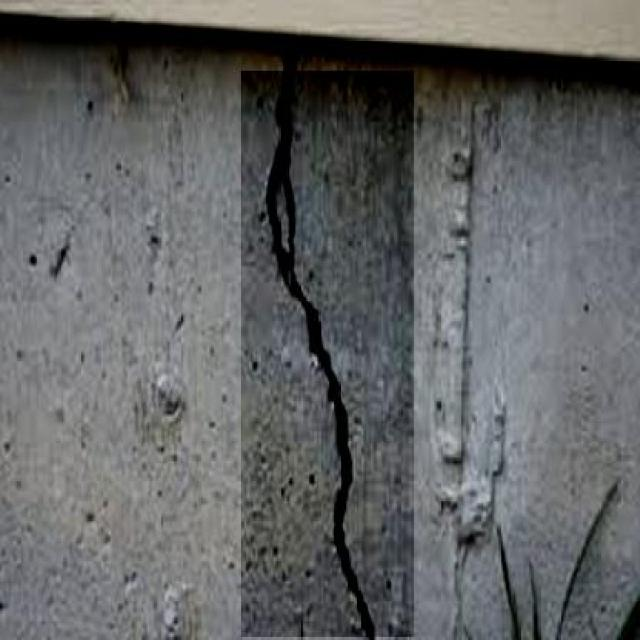Crack: (228, 42, 410, 640)
